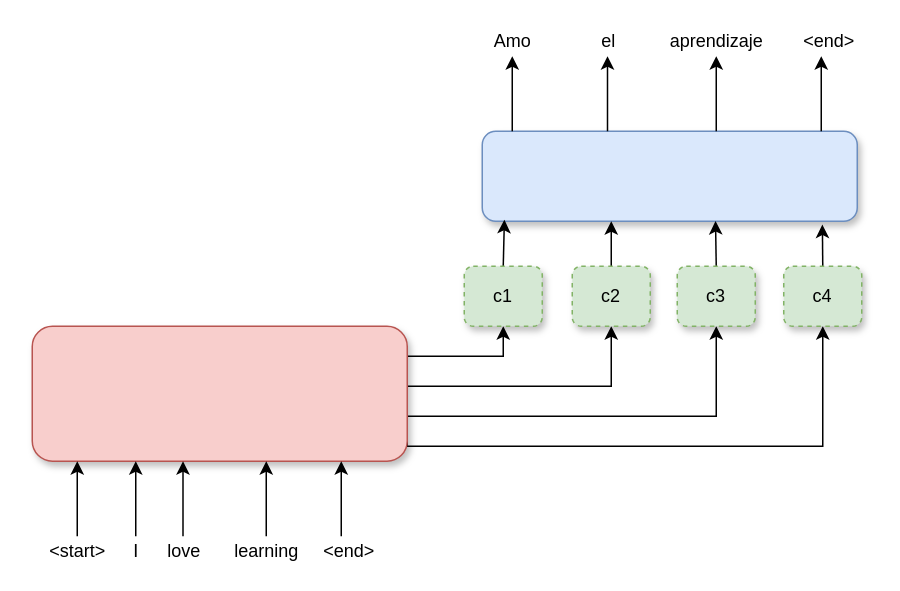
Image size: 900x591. Some labels were removed from this diagram. The shapes that lost their labels are listed below. From the top down, each one's centre as x and y in pixels, then its label:
At point (670, 178): "Decoder".
At point (220, 395): "Encoder".
